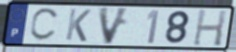1: (146, 9, 161, 45)
8: (164, 10, 190, 45)
C: (28, 7, 62, 43)
H: (191, 8, 228, 48)
K: (64, 7, 93, 43)
V: (97, 5, 132, 46)
